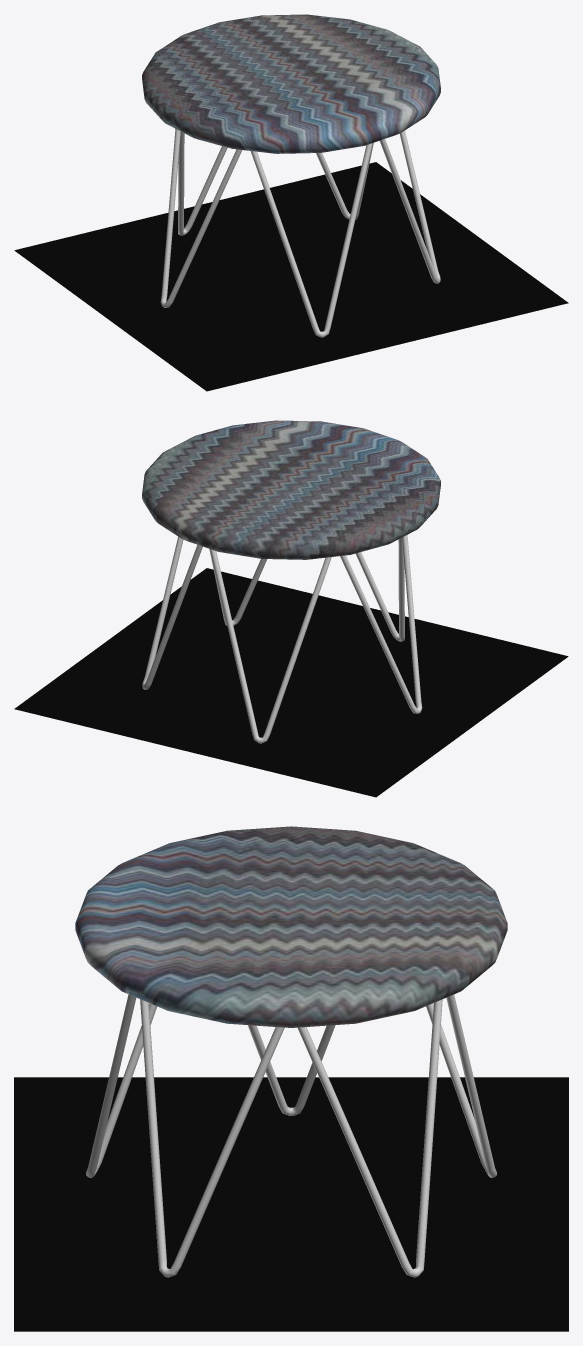
The picture shows the model from 3 angles, top to bottom: view 1: azimuth 30°, elevation 25°; view 2: azimuth 150°, elevation 25°; view 3: azimuth 270°, elevation 25°; orthographic projection. The views are drawn at different scales.
Visible parts, largest first — view 1: S_Sombra, 1_TC0001, 2_MT0001; view 2: S_Sombra, 1_TC0001, 2_MT0001; view 3: S_Sombra, 1_TC0001, 2_MT0001.
Boxes of the visible parts, bbox=[...] form: S_Sombra: bbox=[14, 162, 568, 391]; 1_TC0001: bbox=[142, 14, 440, 153]; 2_MT0001: bbox=[160, 129, 440, 337]; S_Sombra: bbox=[14, 568, 568, 797]; 1_TC0001: bbox=[142, 420, 440, 559]; 2_MT0001: bbox=[142, 535, 422, 743]; S_Sombra: bbox=[14, 1077, 568, 1331]; 1_TC0001: bbox=[75, 826, 507, 1027]; 2_MT0001: bbox=[86, 994, 496, 1277].
Bounding box in the file's own units: 0.835 × 0.45 × 0.77.
Materials: 3 (3 with a texture image).
